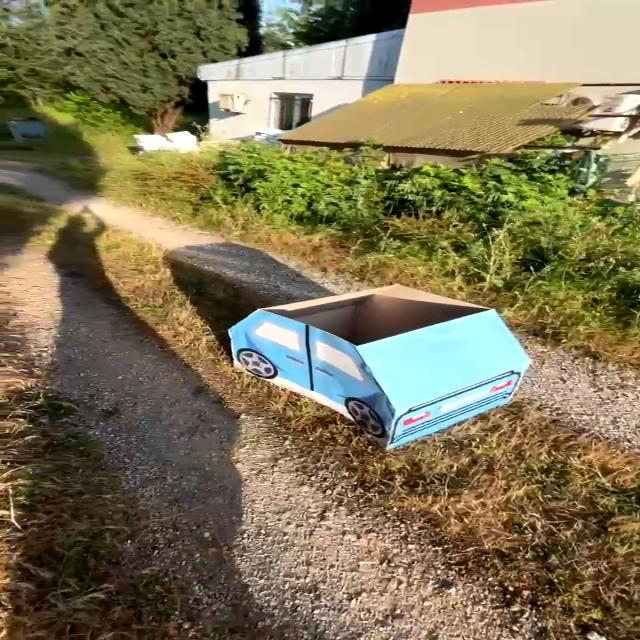blue_car: (199, 265, 572, 456)
